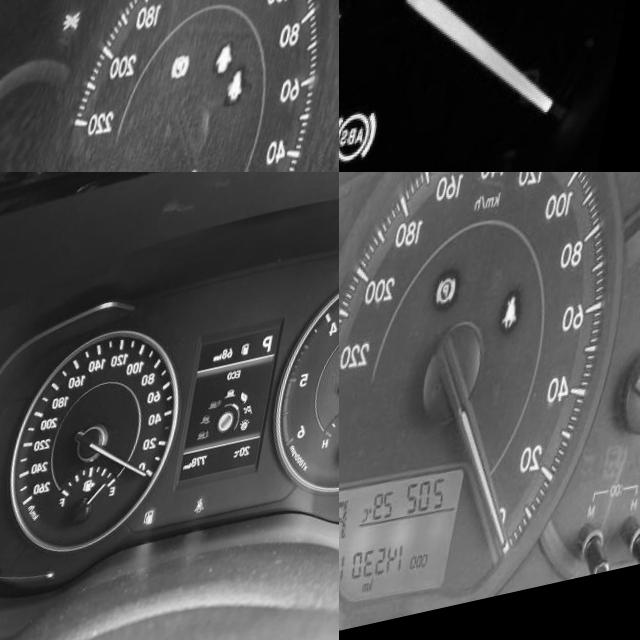Low fuel level: (158, 520, 171, 538)
Seat Belt: (514, 303, 537, 345), (234, 82, 256, 117)
